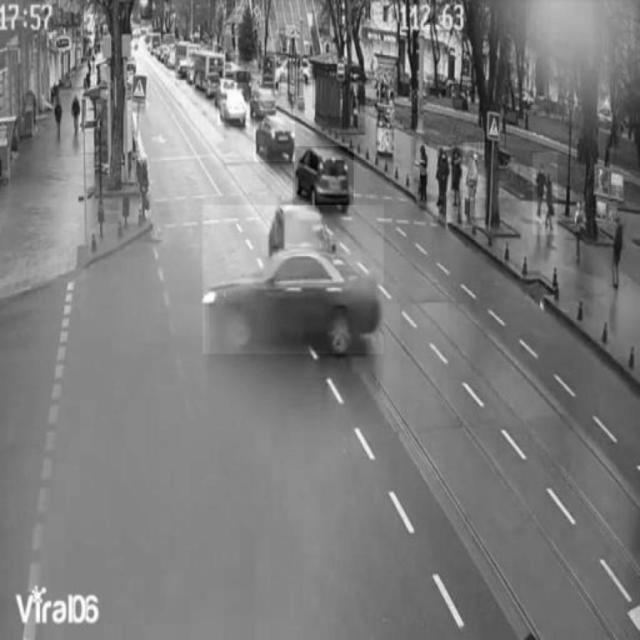accident: (203, 205, 383, 353)
person: (431, 131, 456, 225), (532, 152, 558, 234), (462, 142, 486, 228), (607, 209, 627, 290), (414, 138, 434, 210)
vehicle: (293, 146, 354, 210), (254, 109, 295, 161), (217, 83, 251, 125)
